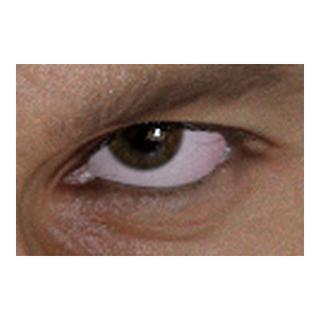pupil: (125, 111, 163, 150)
